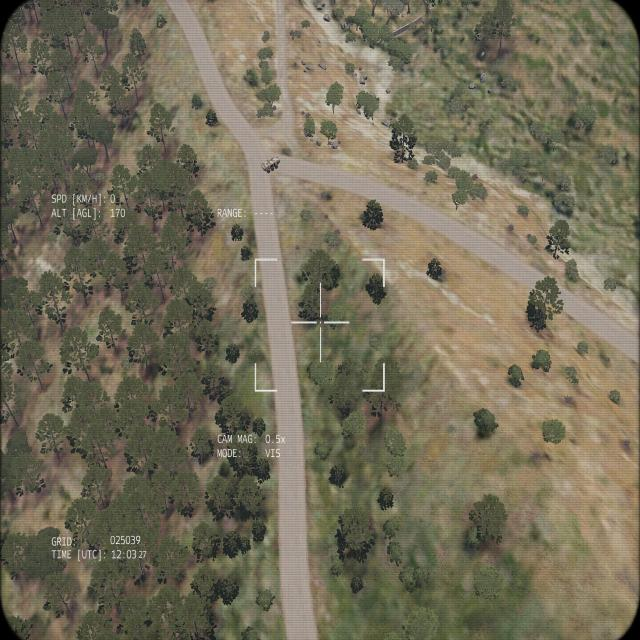apc: (260, 153, 280, 173)
